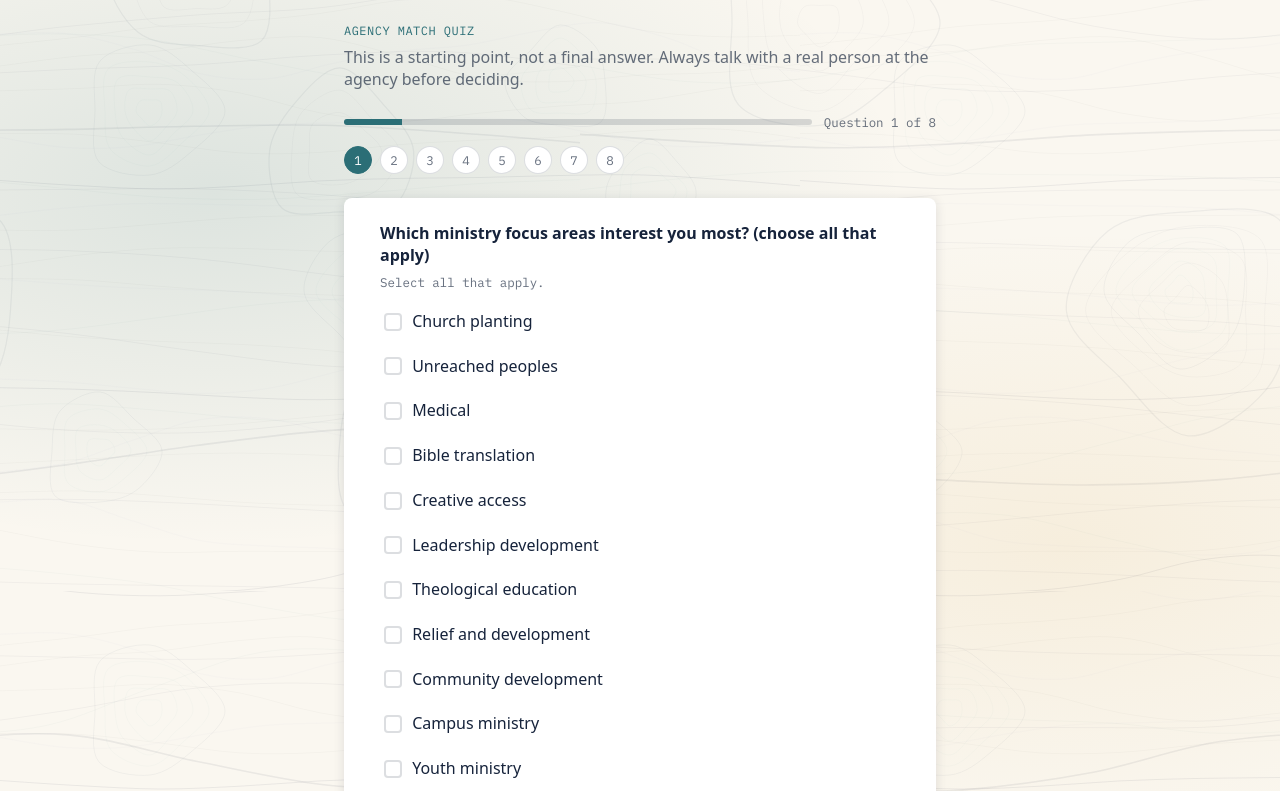
Test: MatchQuiz step navigation › shows the hint instead of submitting when nothing has been answered anywhere
The image size is (1280, 791).
Click the button "8" at [610, 160], box [596,146,624,174]
(page scrolled)
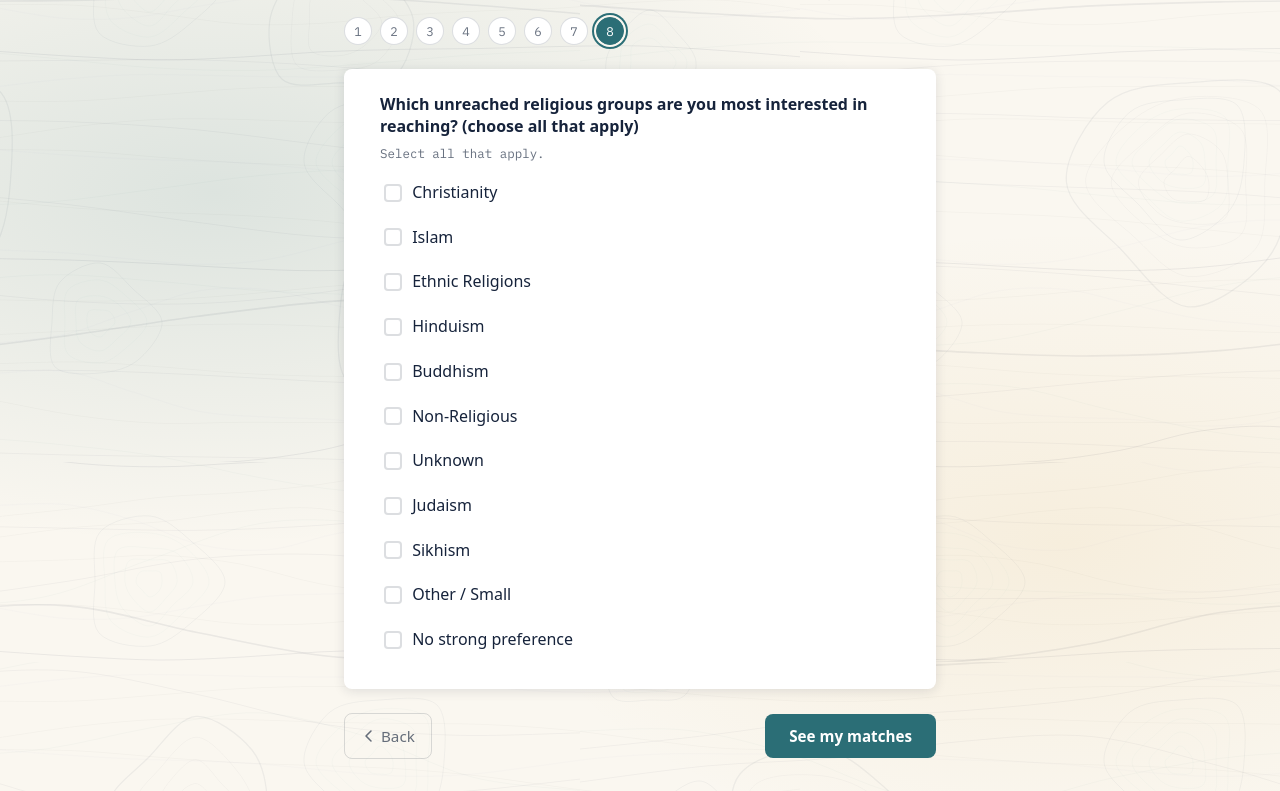
Click the button "See my matches" at [851, 736], box [765,714,936,758]
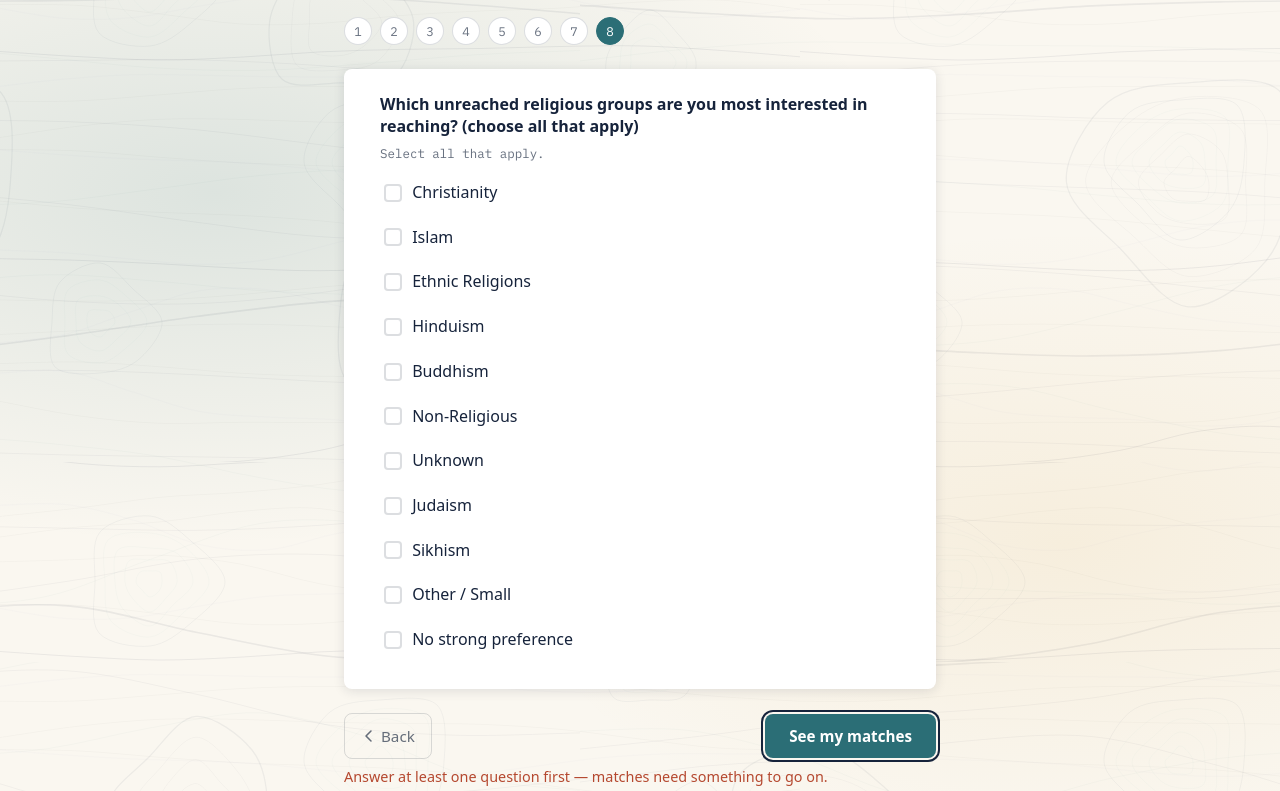
Expected: the message shows "Answer at least one question", [344,767,828,786]
